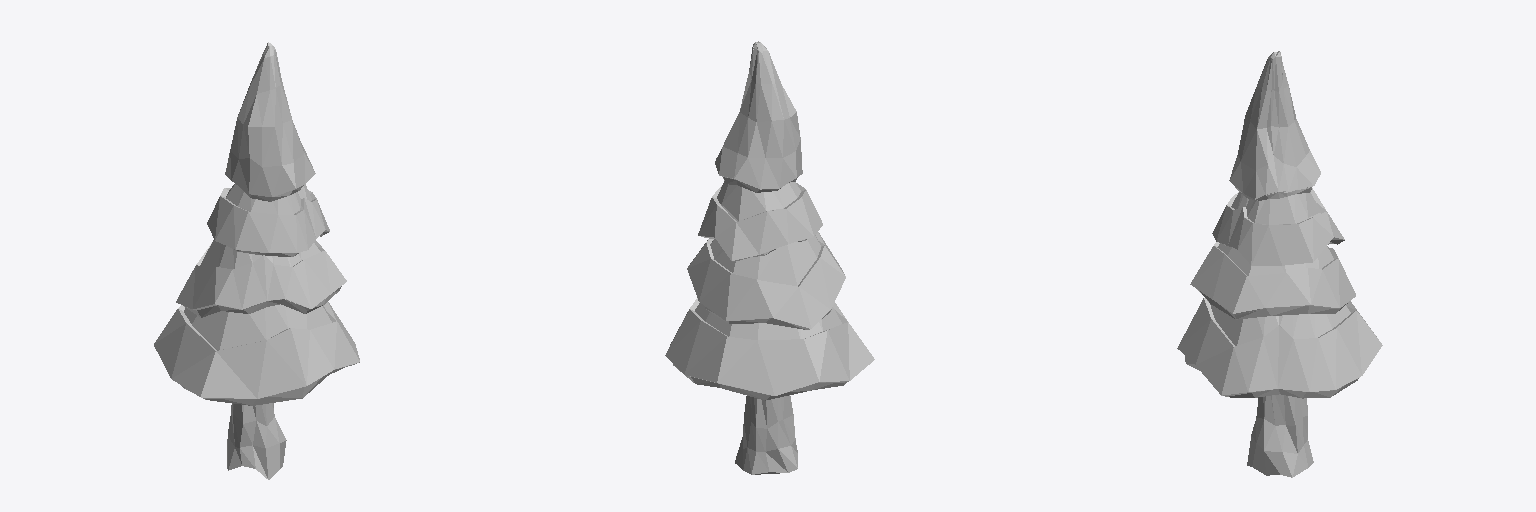
The model's file is pine_tree_3_snow.obj.
The picture shows the model from 3 angles: view 1: azimuth 30°, elevation 25°; view 2: azimuth 150°, elevation 25°; view 3: azimuth 270°, elevation 25°; orthographic projection.
Parts seen in each view (by area): view 1: pine_tree_3_snow_snow, pine_tree_3_snow; view 2: pine_tree_3_snow_snow, pine_tree_3_snow; view 3: pine_tree_3_snow_snow, pine_tree_3_snow.
Boxes of the visible parts, x1=… form: pine_tree_3_snow_snow: x1=154, y1=42, x2=359, y2=398; pine_tree_3_snow: x1=182, y1=184, x2=344, y2=479; pine_tree_3_snow_snow: x1=665, y1=41, x2=874, y2=395; pine_tree_3_snow: x1=673, y1=176, x2=846, y2=474; pine_tree_3_snow_snow: x1=1177, y1=51, x2=1382, y2=396; pine_tree_3_snow: x1=1185, y1=187, x2=1358, y2=477.
Size of the model in its own units: 1.69 by 4.09 by 1.8.